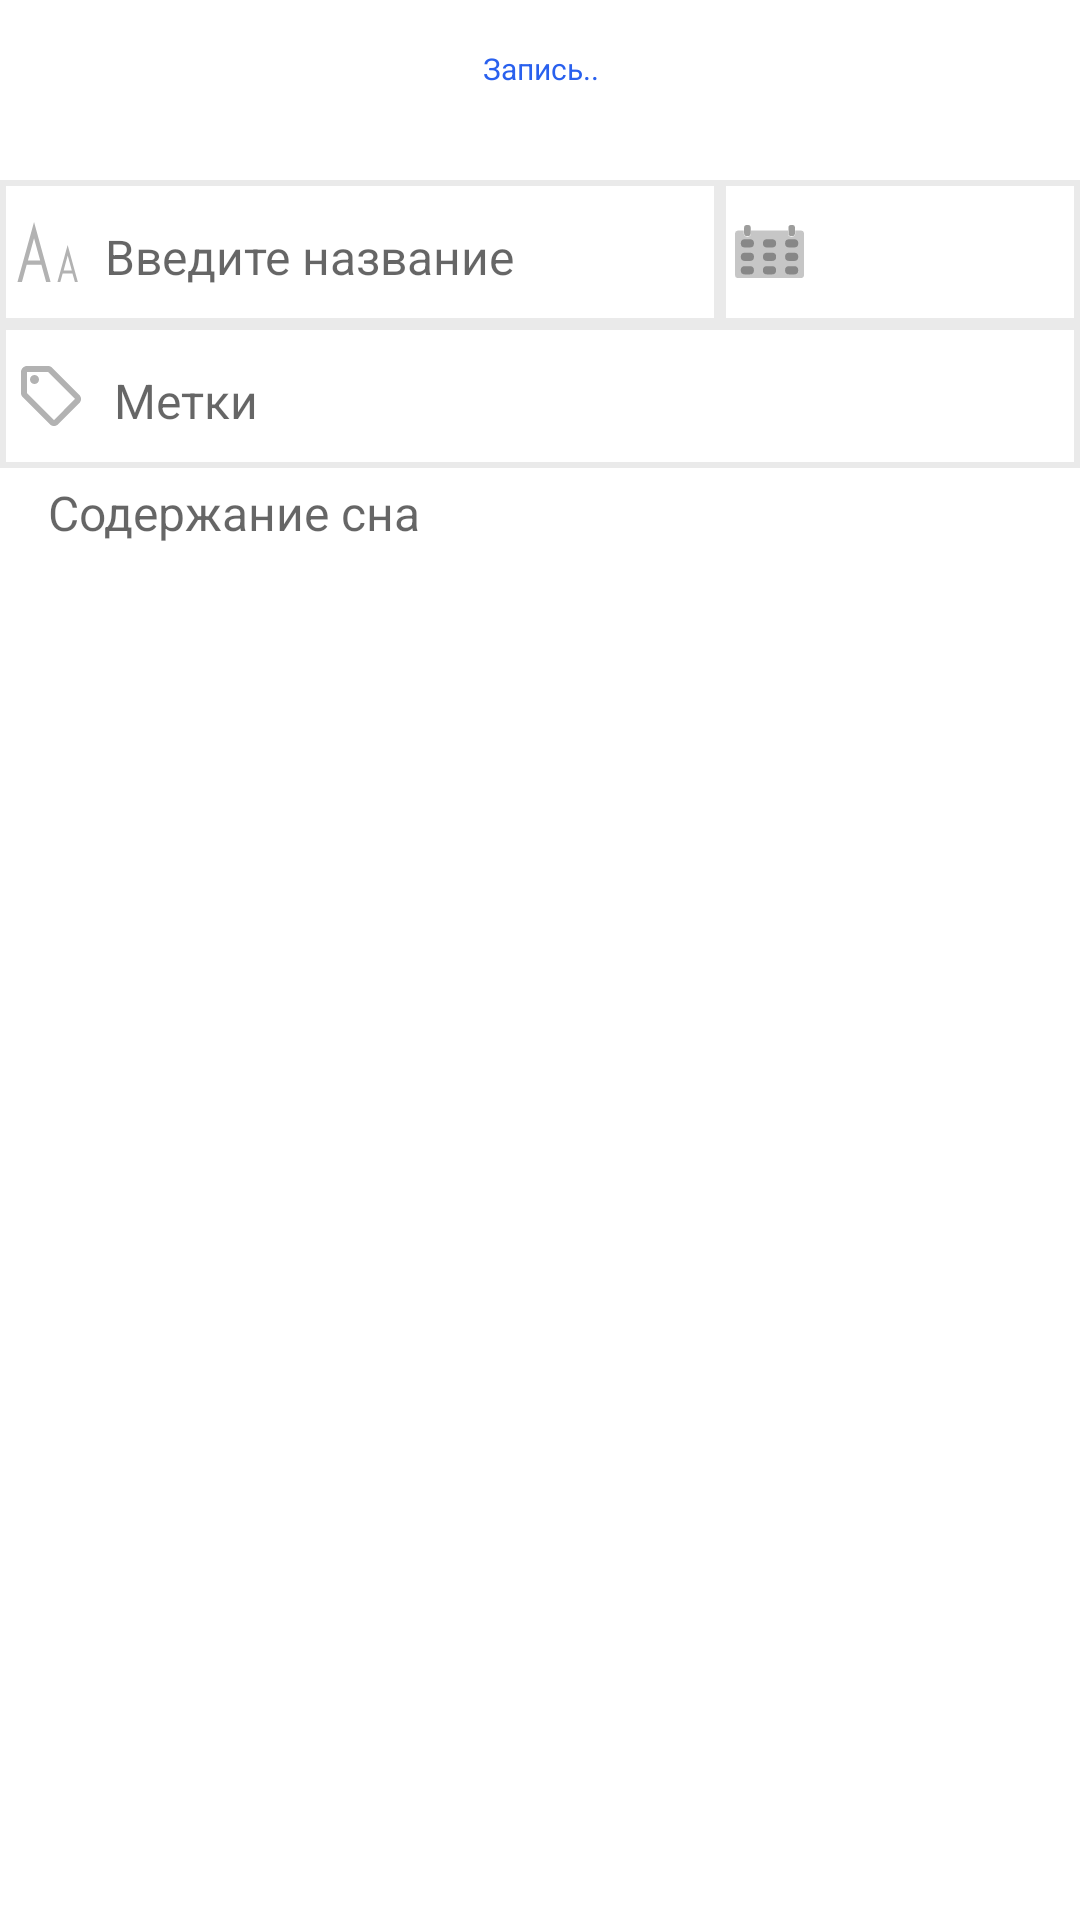

Named icons in this screenshot (1080*1920) and their centers, (x=x, y=y):
calendar: (x=769, y=251)
label: (x=51, y=396)
